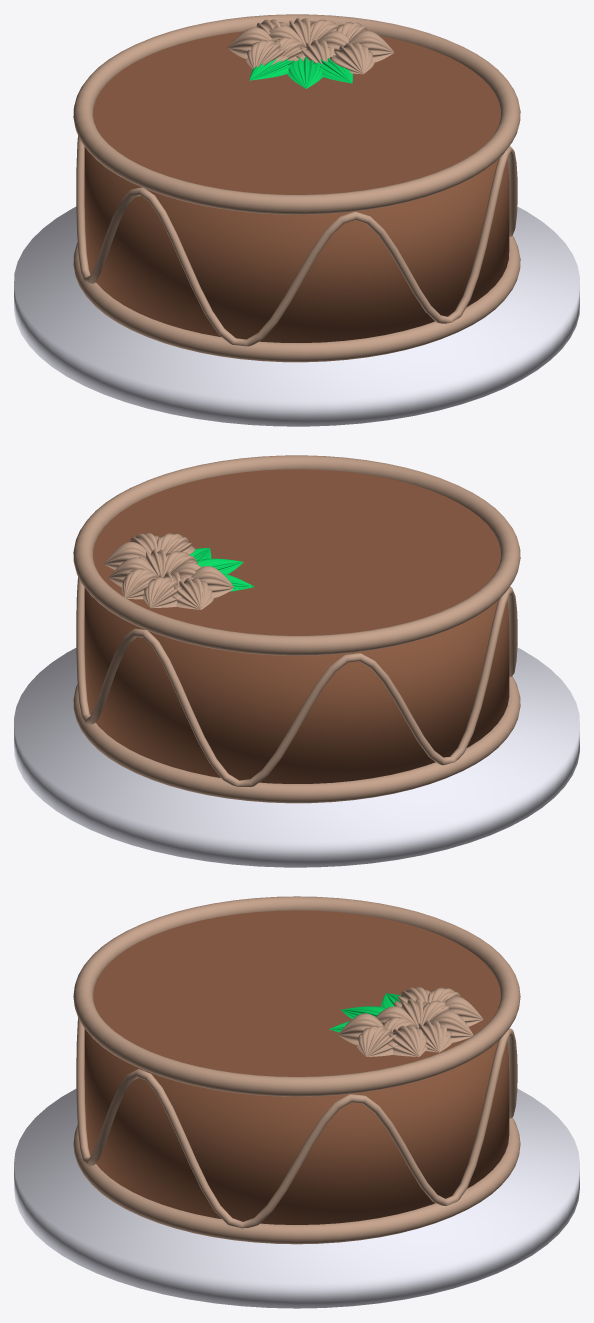
The model's file is round_chocolate_style2.glb.
The picture shows the model from 3 angles, top to bottom: view 1: azimuth 30°, elevation 25°; view 2: azimuth 150°, elevation 25°; view 3: azimuth 270°, elevation 25°; orthographic projection.
Visible parts, largest first — view 1: CakeBase, IcingStand.001, CakeTopCircle, IcingRing, IcingRing.001, WaveIcing, leaf.001, design10, design11, design7, design12, design3; view 2: CakeBase, IcingStand.001, CakeTopCircle, IcingRing, IcingRing.001, WaveIcing, design12, design9, leaf.001, design4, design11, design8 (+2 smaller); view 3: CakeBase, IcingStand.001, CakeTopCircle, IcingRing, IcingRing.001, WaveIcing, design7, design8, design5, design4, design10, leaf.001 (+1 smaller).
Part boxes in pixels (bbox=[...]): CakeBase: bbox=[84, 147, 509, 342]; IcingStand.001: bbox=[14, 206, 579, 426]; CakeTopCircle: bbox=[93, 31, 500, 194]; IcingRing: bbox=[73, 14, 520, 214]; IcingRing.001: bbox=[73, 235, 520, 362]; WaveIcing: bbox=[76, 135, 517, 346]; leaf.001: bbox=[249, 57, 352, 88]; design10: bbox=[330, 42, 374, 74]; design11: bbox=[245, 39, 288, 68]; design7: bbox=[349, 30, 394, 62]; design12: bbox=[227, 27, 272, 58]; design3: bbox=[296, 40, 334, 64]; CakeBase: bbox=[84, 588, 509, 783]; IcingStand.001: bbox=[14, 647, 579, 867]; CakeTopCircle: bbox=[93, 469, 500, 635]; IcingRing: bbox=[73, 455, 520, 655]; IcingRing.001: bbox=[73, 676, 520, 803]; WaveIcing: bbox=[76, 577, 517, 786]; design12: bbox=[172, 578, 213, 609]; design9: bbox=[143, 576, 181, 607]; leaf.001: bbox=[189, 548, 254, 591]; design4: bbox=[121, 568, 159, 599]; design11: bbox=[190, 566, 233, 597]; design8: bbox=[104, 542, 150, 570]; CakeBase: bbox=[84, 1029, 509, 1224]; IcingStand.001: bbox=[14, 1088, 579, 1308]; CakeTopCircle: bbox=[93, 910, 500, 1076]; IcingRing: bbox=[73, 896, 520, 1096]; IcingRing.001: bbox=[73, 1117, 520, 1244]; WaveIcing: bbox=[76, 1018, 517, 1228]; design7: bbox=[356, 1025, 397, 1056]; design8: bbox=[387, 1025, 427, 1056]; design5: bbox=[419, 1020, 451, 1052]; design4: bbox=[430, 1011, 473, 1042]; design10: bbox=[338, 1013, 383, 1044]; leaf.001: bbox=[329, 993, 400, 1032].
Size of the model in its own units: 4 by 1.69 by 4.
